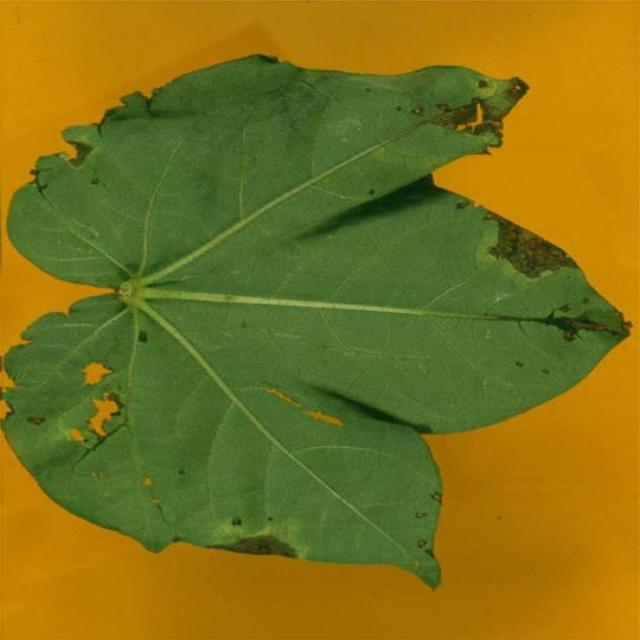Bacterial Blight: (344, 65, 599, 368)
